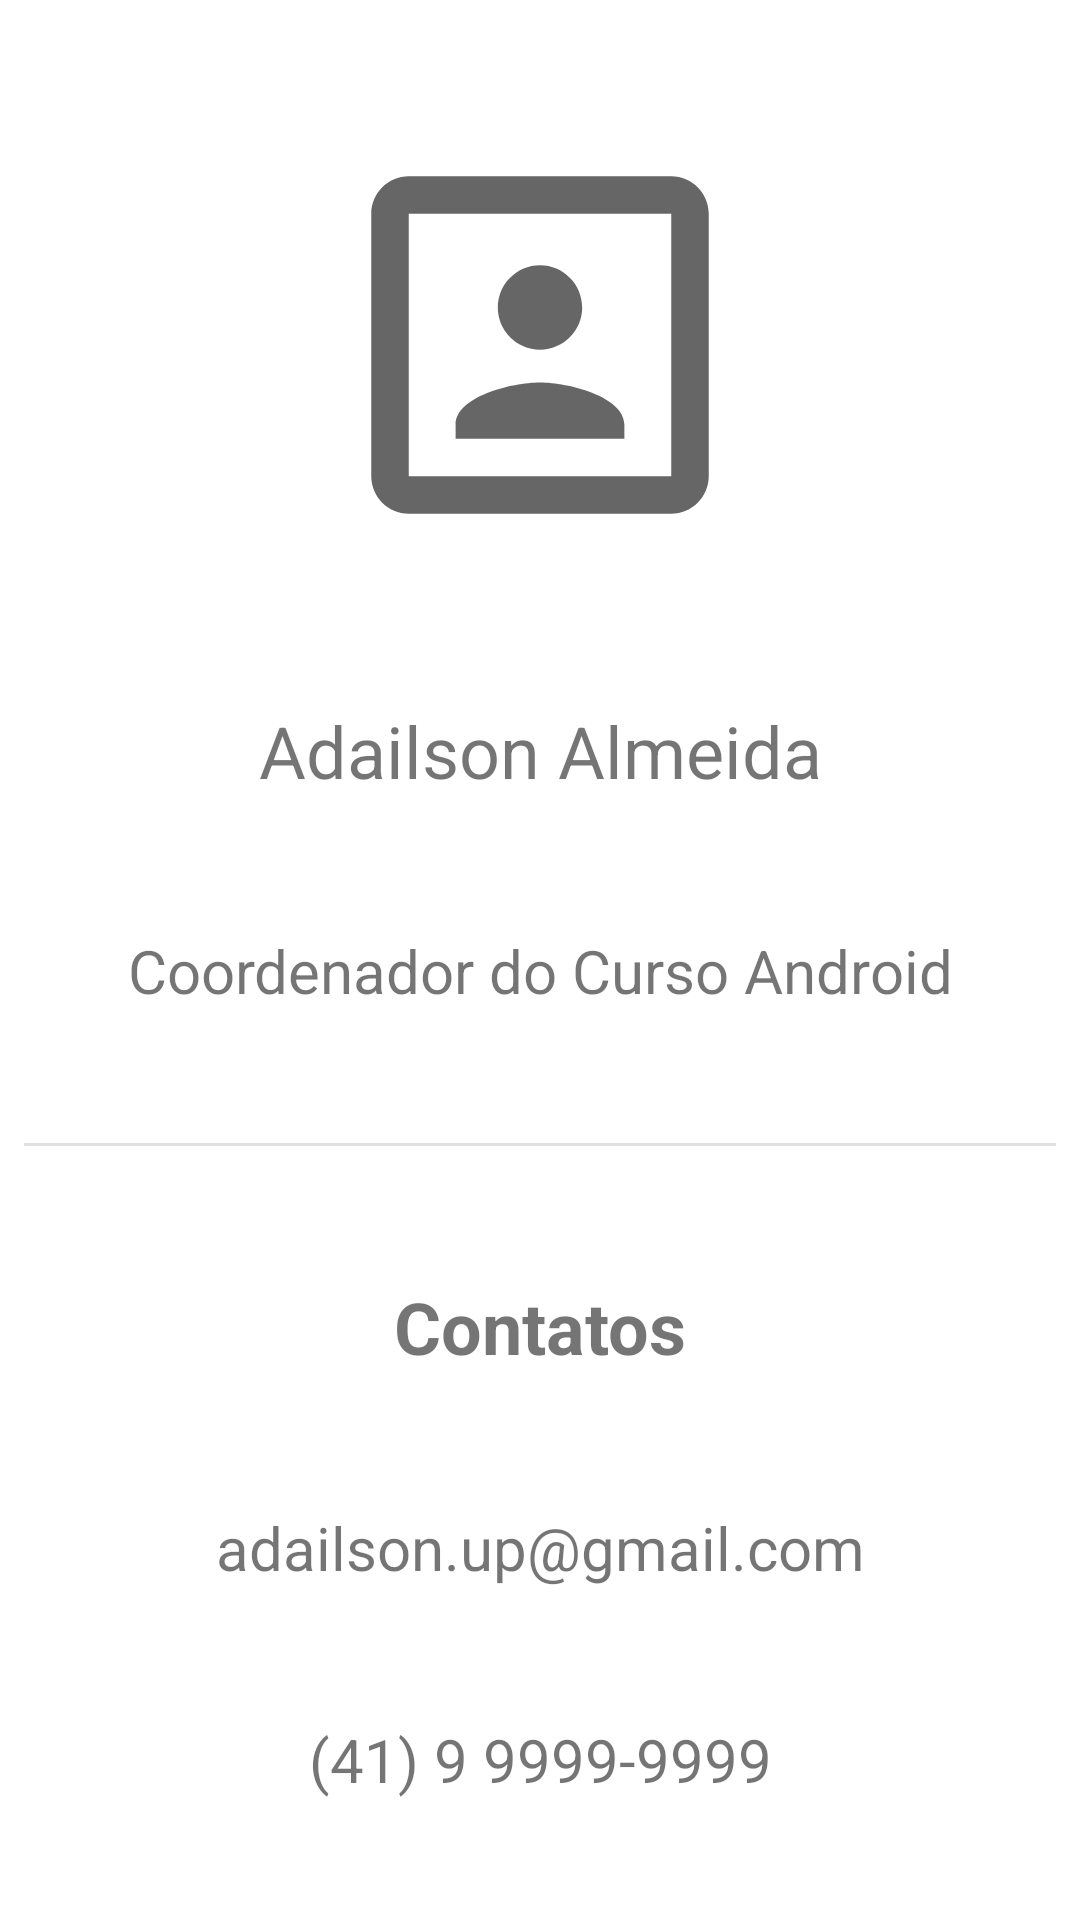

Icon bounding boxes for this 1080 x 1920 phone screenshot, format (x1, y1, x2, y2):
portrait: (371, 176, 709, 514)
